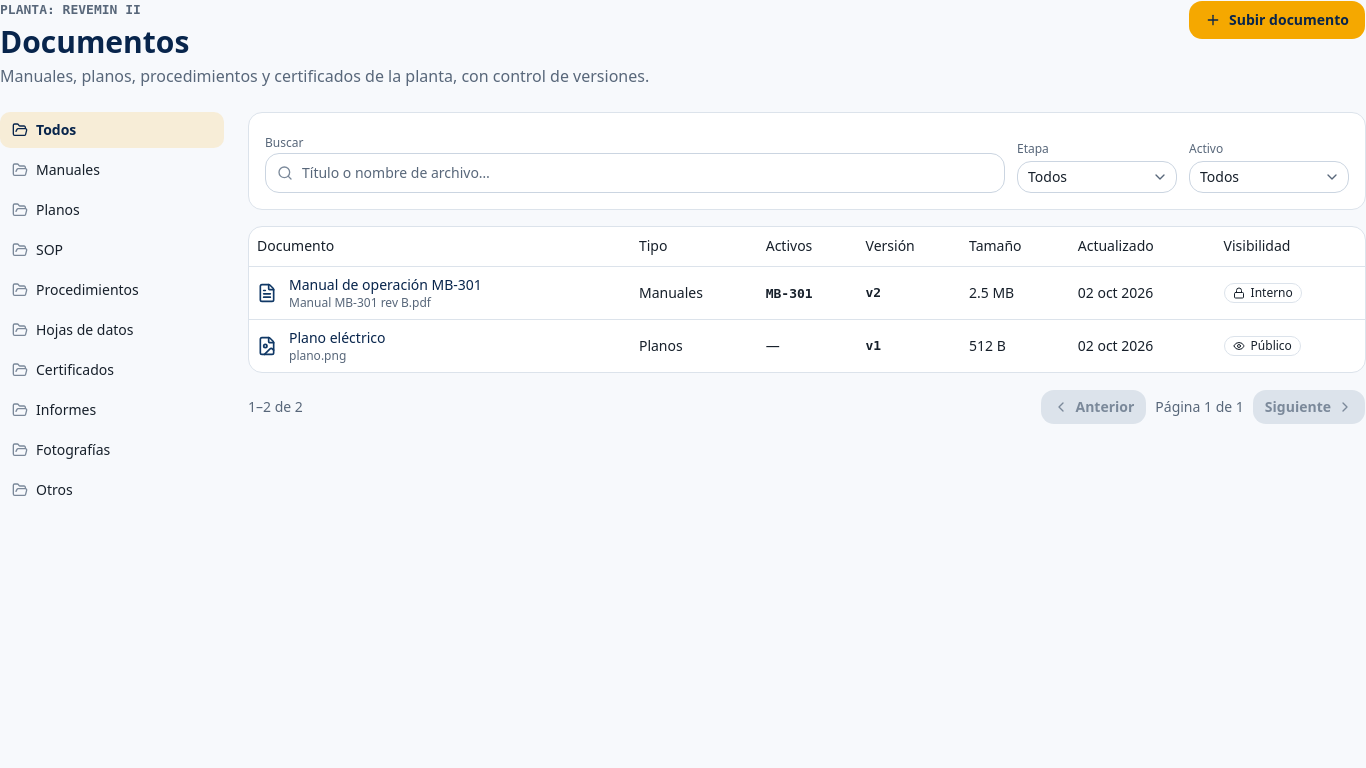
Scenario: Documentos (página) › subir documento › publicar es explícito: al elegir Público se avisa que depende de la planta
Click the button "Subir documento": [1277, 20] box [1188,0,1365,40]
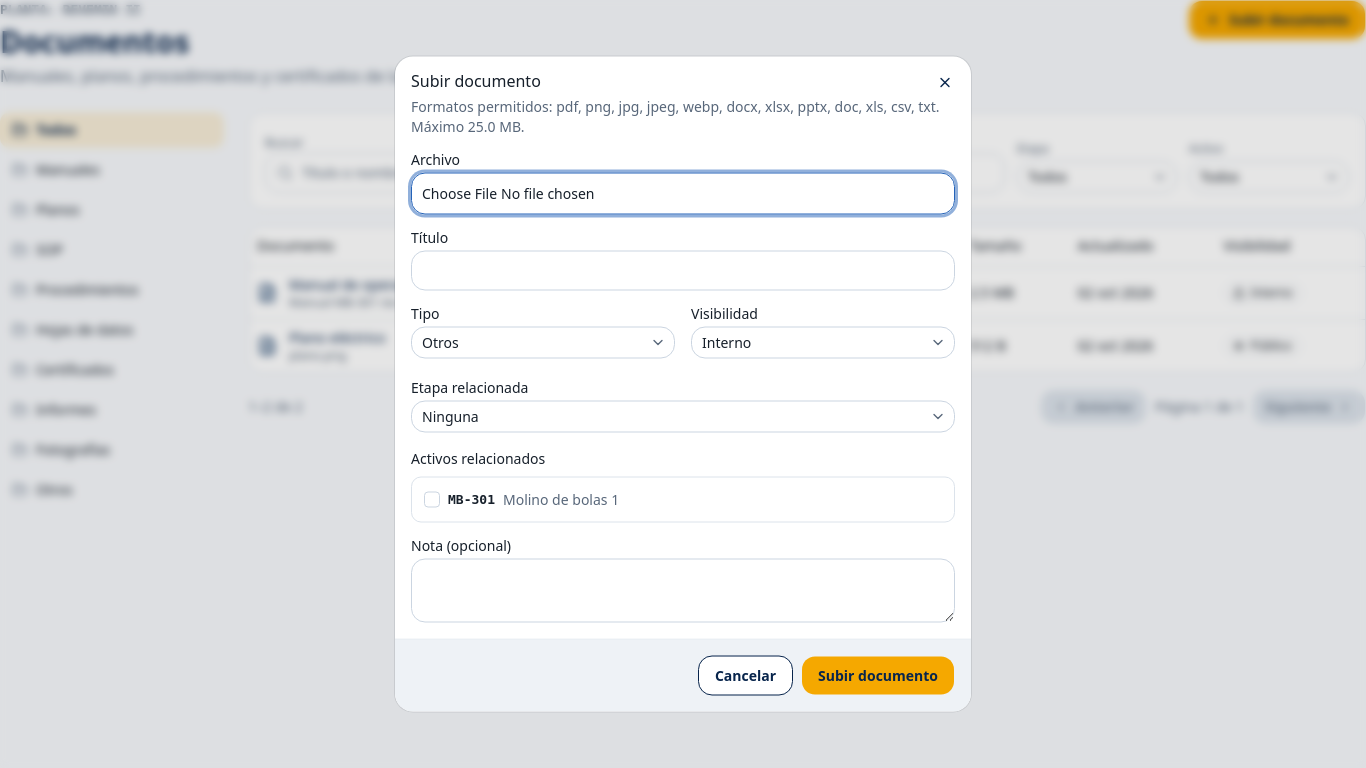
Click the dropdown named "Visibilidad": [727, 342] box [691,326,955,358]
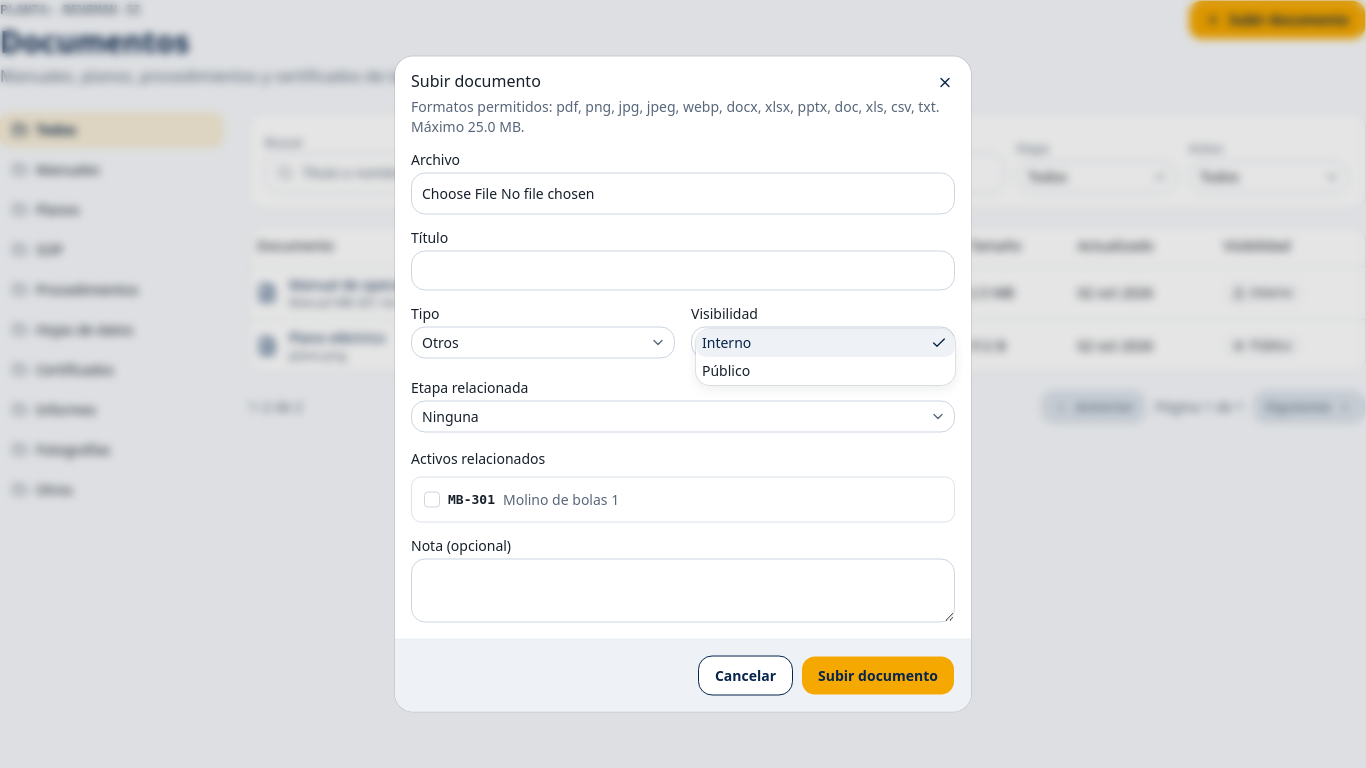
Click the option "Público": [726, 370] box [702,360,750,380]
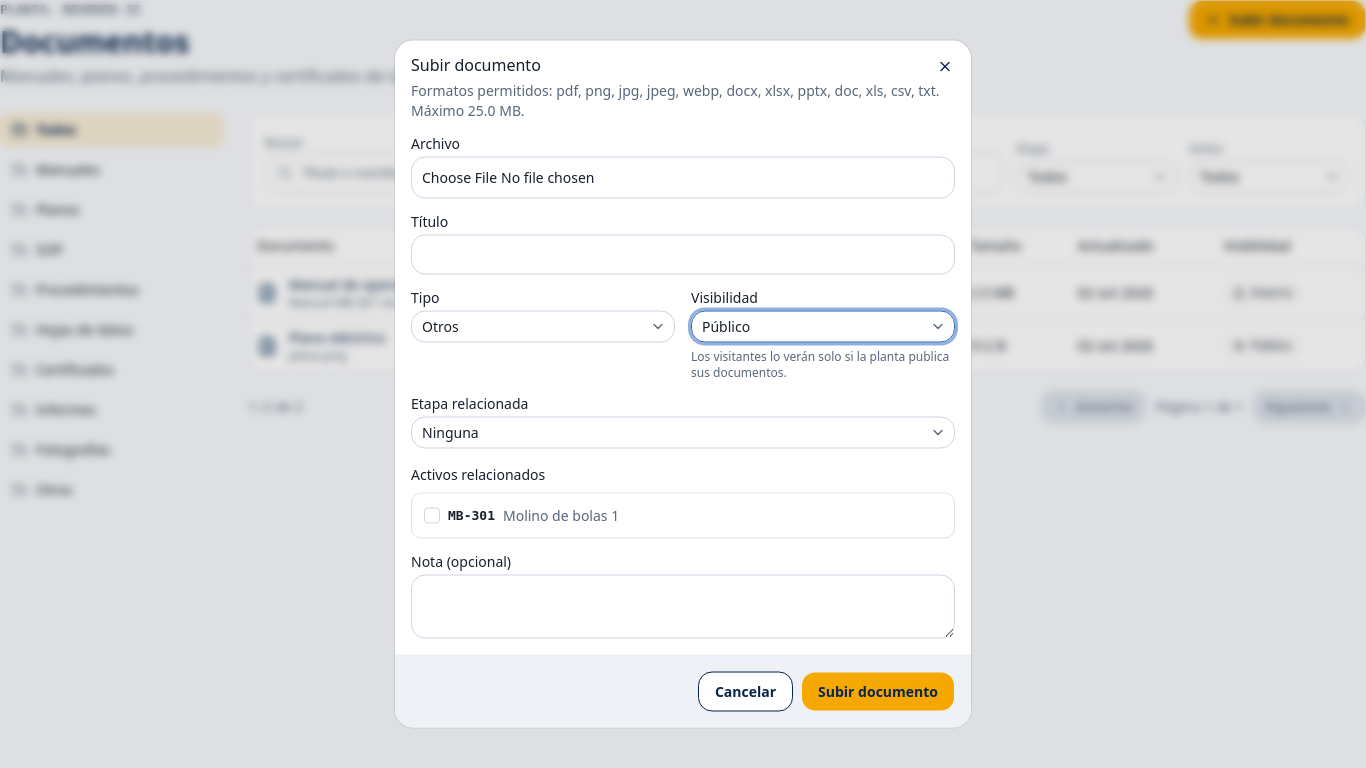
Now the text "solo si la planta publica sus documentos" is shown, box [691,348,949,380]
